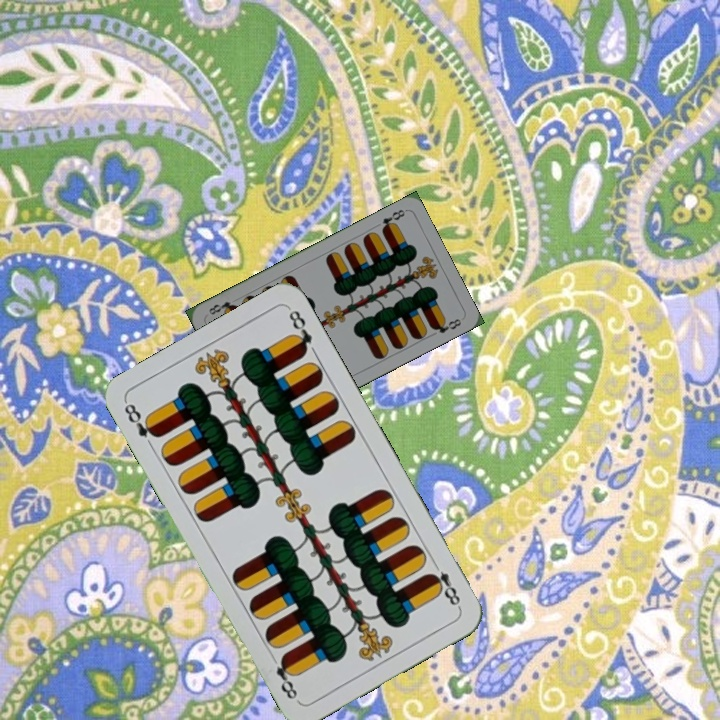E8: (424, 556, 463, 611), (119, 398, 163, 441), (378, 205, 408, 234)
